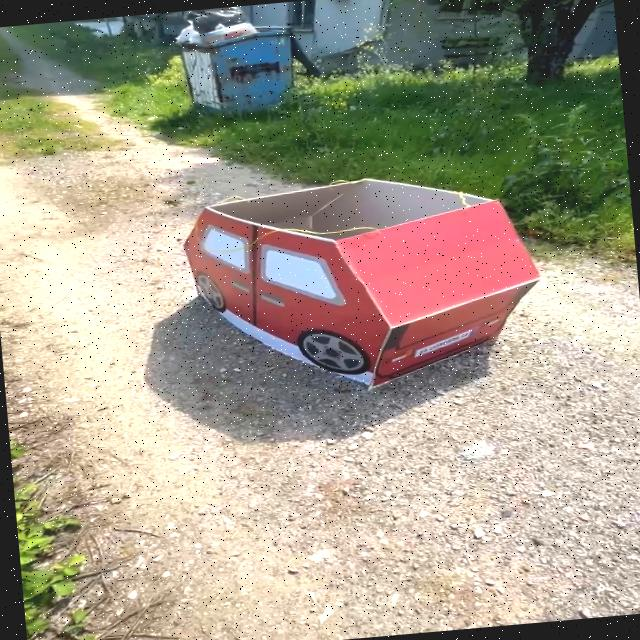red_car: (124, 119, 617, 425)
